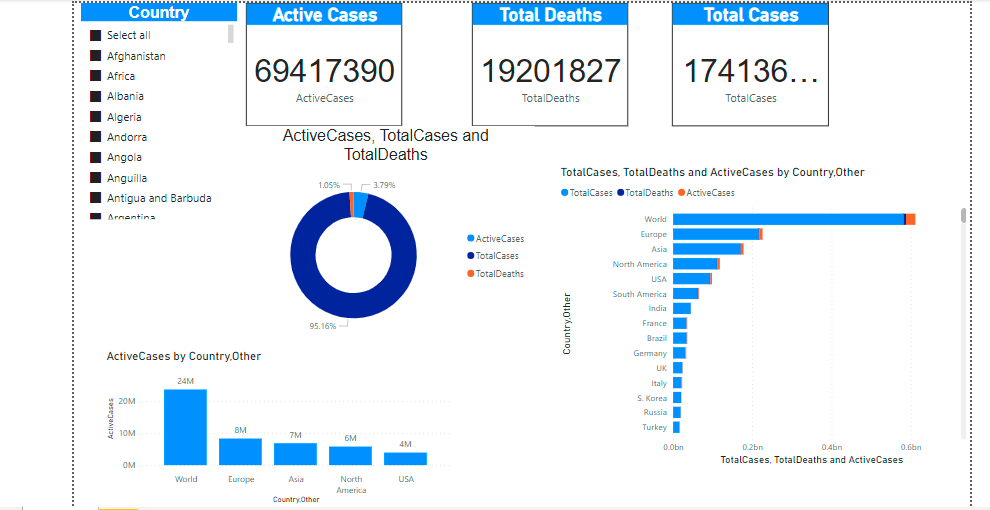

The page's visual inventory and layout, read from the dashboard file:
{"tool":"powerbi","page":{"name":"Page 1","canvas":[1280,720],"ordinal":0},"visuals":[{"type":"slicer","title":"Country","fields":{"Values":["CoronaVirus.Country,Other"]},"box":[10,0,222.9,314.3],"z":0},{"type":"card","title":"Active Cases","fields":{"Values":["Sum(CoronaVirus.ActiveCases)"]},"box":[245.2,0,223.4,176.4],"z":1000},{"type":"card","title":"Total Deaths","fields":{"Values":["Sum(CoronaVirus.TotalDeaths)"]},"box":[568.6,0,222.9,175.7],"z":1001},{"type":"card","title":"Total Cases","fields":{"Values":["Sum(CoronaVirus.TotalCases)"]},"box":[854.3,0,224.3,175.7],"z":1002},{"type":"donutChart","fields":{"Y":["Sum(CoronaVirus.ActiveCases)","Sum(CoronaVirus.TotalCases)","Sum(CoronaVirus.TotalDeaths)"]},"box":[233.5,176.4,425,317.5],"z":1003},{"type":"clusteredColumnChart","fields":{"Category":["CoronaVirus.Country,Other"],"Y":["Sum(CoronaVirus.ActiveCases)"]},"box":[41.4,494.3,501.4,225.7],"z":1004},{"type":"barChart","fields":{"Category":["CoronaVirus.Country,Other"],"Y":["Sum(CoronaVirus.TotalCases)","Sum(CoronaVirus.TotalDeaths)","Sum(CoronaVirus.ActiveCases)"]},"box":[690,231.4,590,434.3],"z":1005}]}

Visuals, with their boxes on the page's 1280x720 design canvas (x1, y1, x2, y2). These are canvas units, not pixel positions in the 990x510 screenshot, which may show the page scaled, cropped or inside an application window:
"Country" slicer: l=10, t=0, r=233, b=314
"Active Cases" card: l=245, t=0, r=469, b=176
"Total Deaths" card: l=569, t=0, r=792, b=176
"Total Cases" card: l=854, t=0, r=1079, b=176
donutChart - Sum(CoronaVirus.ActiveCases) x Sum(CoronaVirus.TotalCases): l=234, t=176, r=658, b=494
clusteredColumnChart - CoronaVirus.Country,Other x Sum(CoronaVirus.ActiveCases): l=41, t=494, r=543, b=720
barChart - CoronaVirus.Country,Other x Sum(CoronaVirus.TotalCases): l=690, t=231, r=1280, b=666
